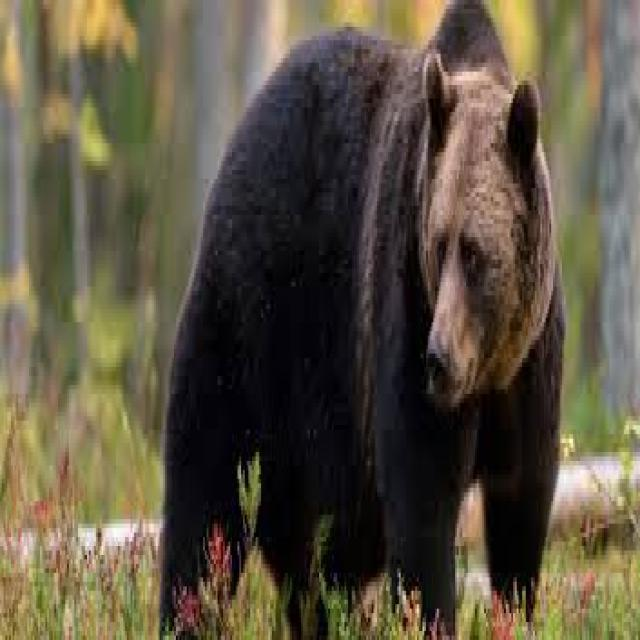bear: (141, 13, 581, 640)
